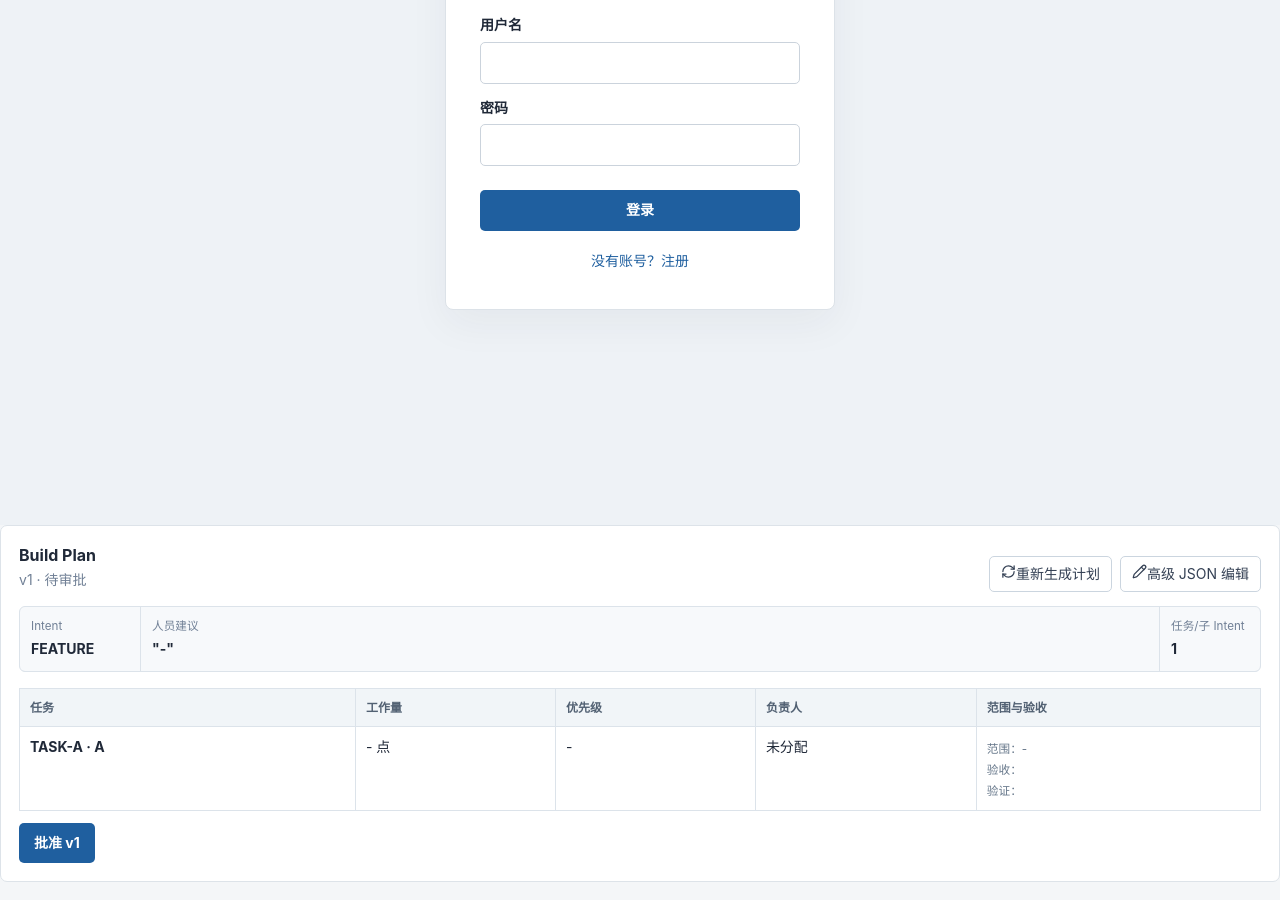
Scenario: build plan granularity actions › changes plan regeneration to a disabled generating state after click
(page scrolled)
Click the button "重新生成计划" at (1050, 574), box [989,556,1112,592]
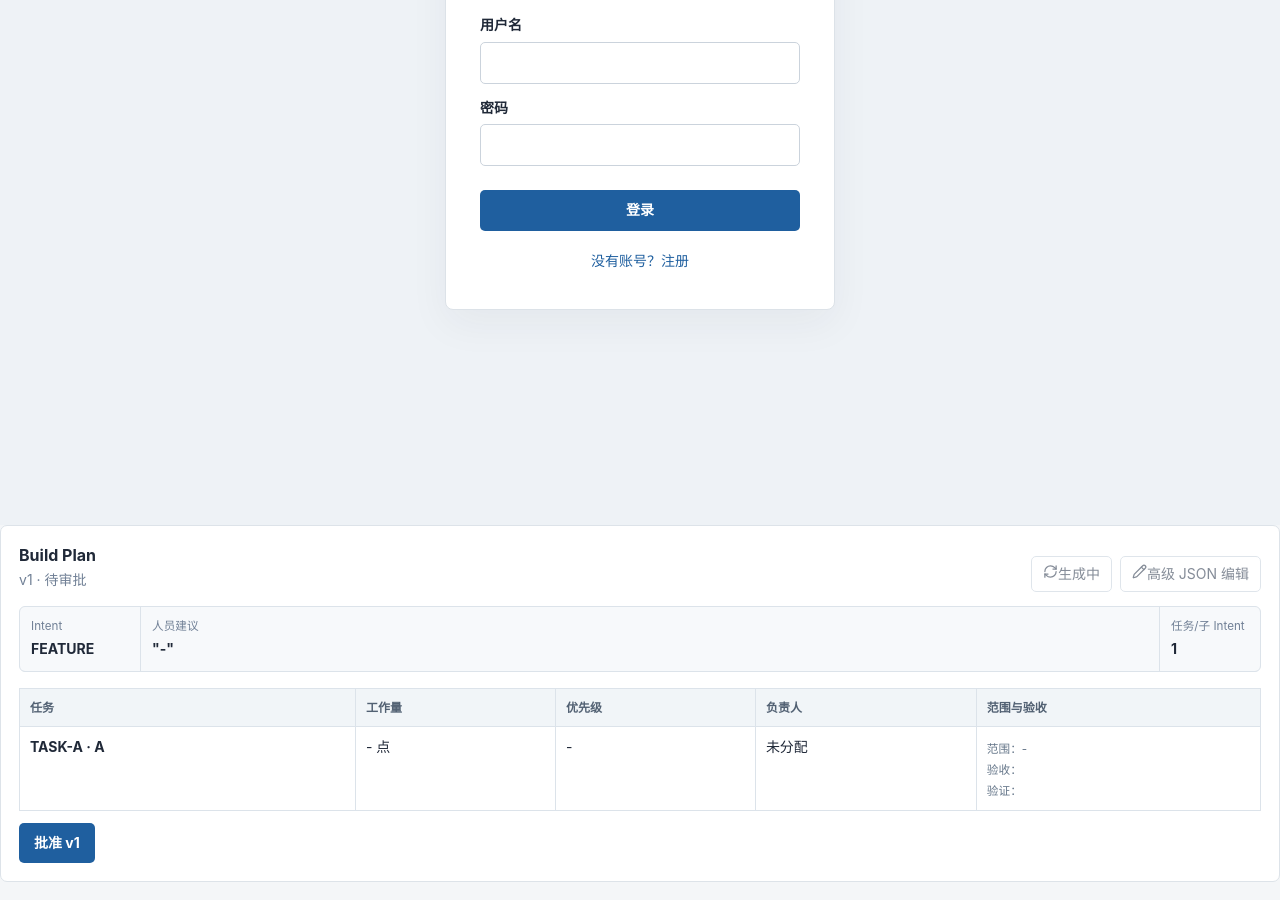
Result: the button "生成中" is disabled at [1031,556,1112,592]
